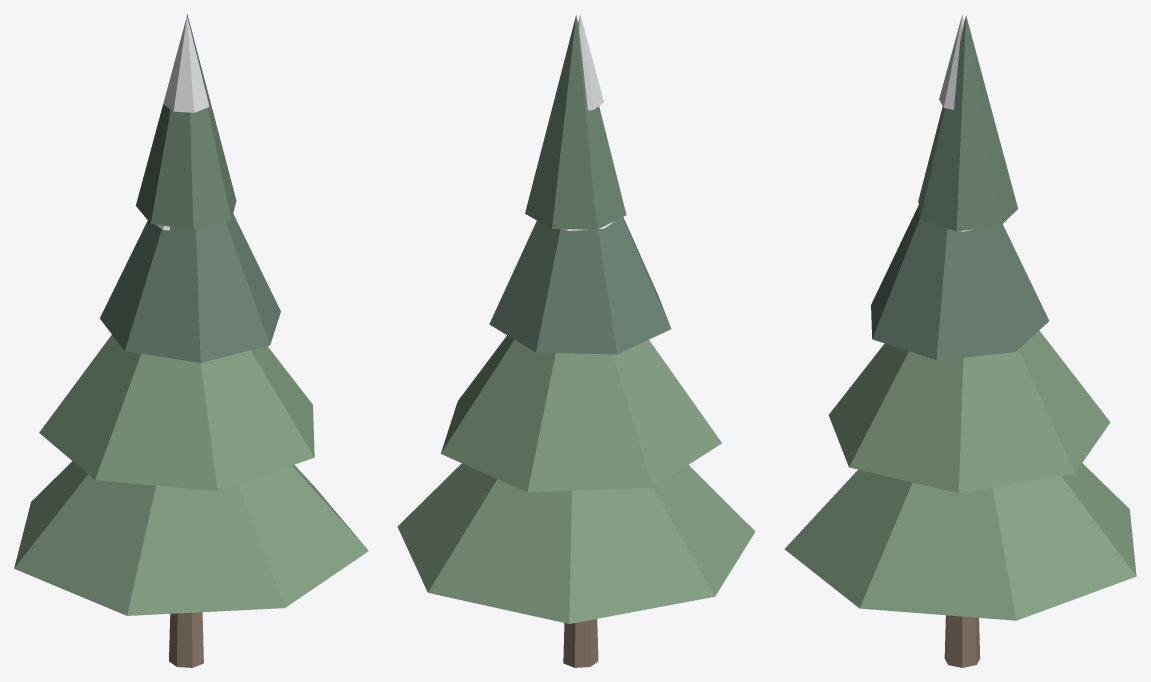
The model's file is node_tree_tundra_0.glb.
3 views of the same model, side by side, from view 1: azimuth 30°, elevation 25°; view 2: azimuth 150°, elevation 25°; view 3: azimuth 270°, elevation 25° (orthographic).
Visible parts, largest first — view 1: node_tree_tundra_0; view 2: node_tree_tundra_0; view 3: node_tree_tundra_0.
Boxes of the visible parts, left/top/right/bottom form: node_tree_tundra_0: left=14, top=14, right=368, bottom=667; node_tree_tundra_0: left=397, top=14, right=755, bottom=667; node_tree_tundra_0: left=784, top=14, right=1136, bottom=667.
Size of the model in its own units: 4.32 by 8.61 by 4.25.
